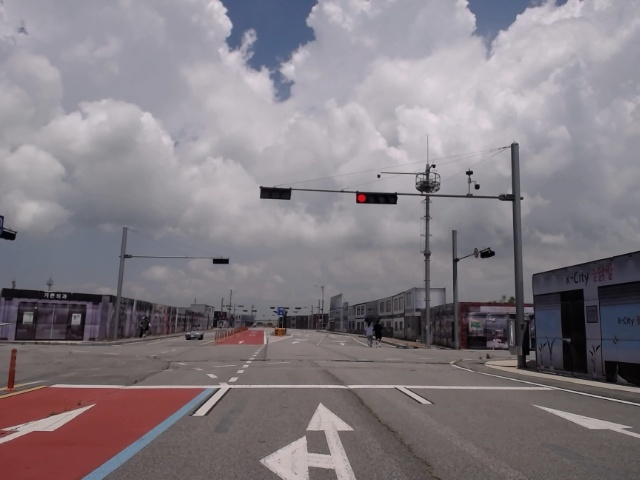red_4: (356, 192, 396, 204)
